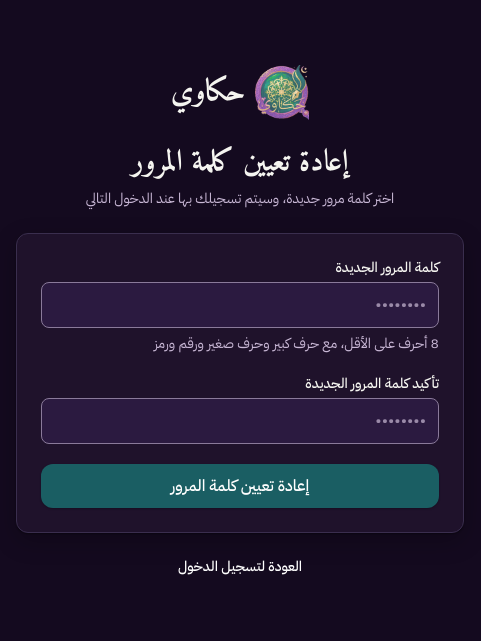
Test: reset password page › renders a schema rejection of a malformed server response
In the password field labelled "كلمة المرور الجديدة": (240, 305) top-left (41, 282), bottom-right (439, 328), type "NewSecurePass123!"
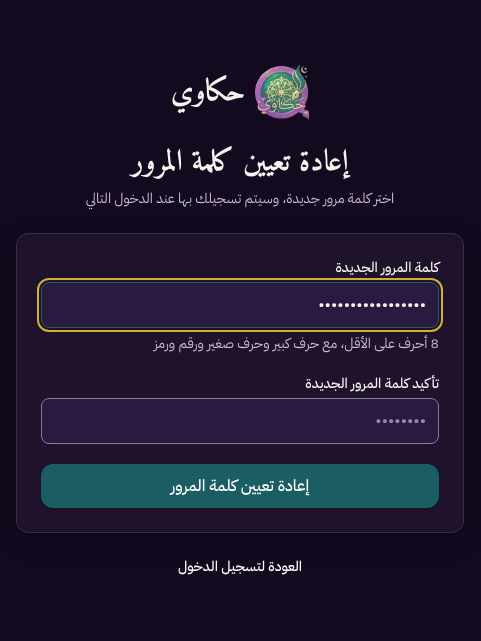
In the password field labelled "تأكيد كلمة المرور الجديدة": (240, 421) top-left (41, 398), bottom-right (439, 444), type "NewSecurePass123!"
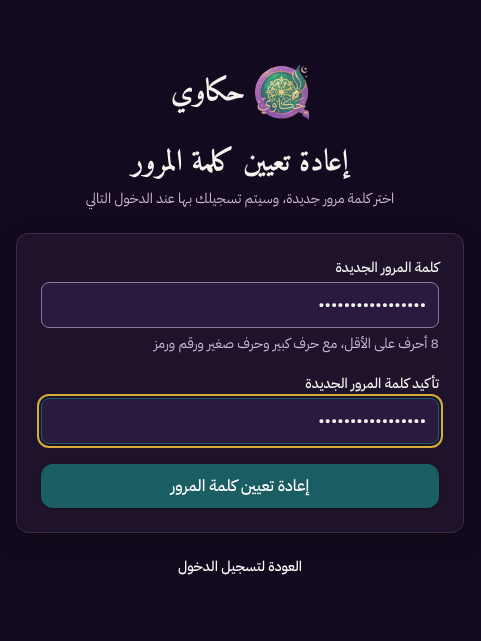
Click the button "إعادة تعيين كلمة المرور": (240, 486) top-left (41, 464), bottom-right (439, 508)
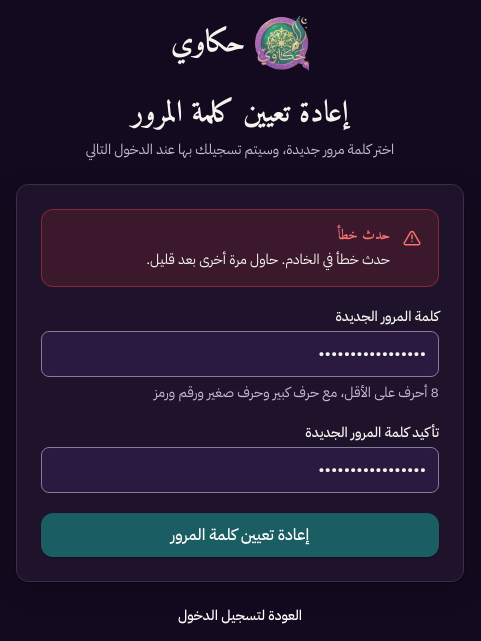
Result: the text "حدث خطأ في الخادم. حاول مرة أخرى بعد قليل." is shown at top-left (146, 249), bottom-right (390, 270)
